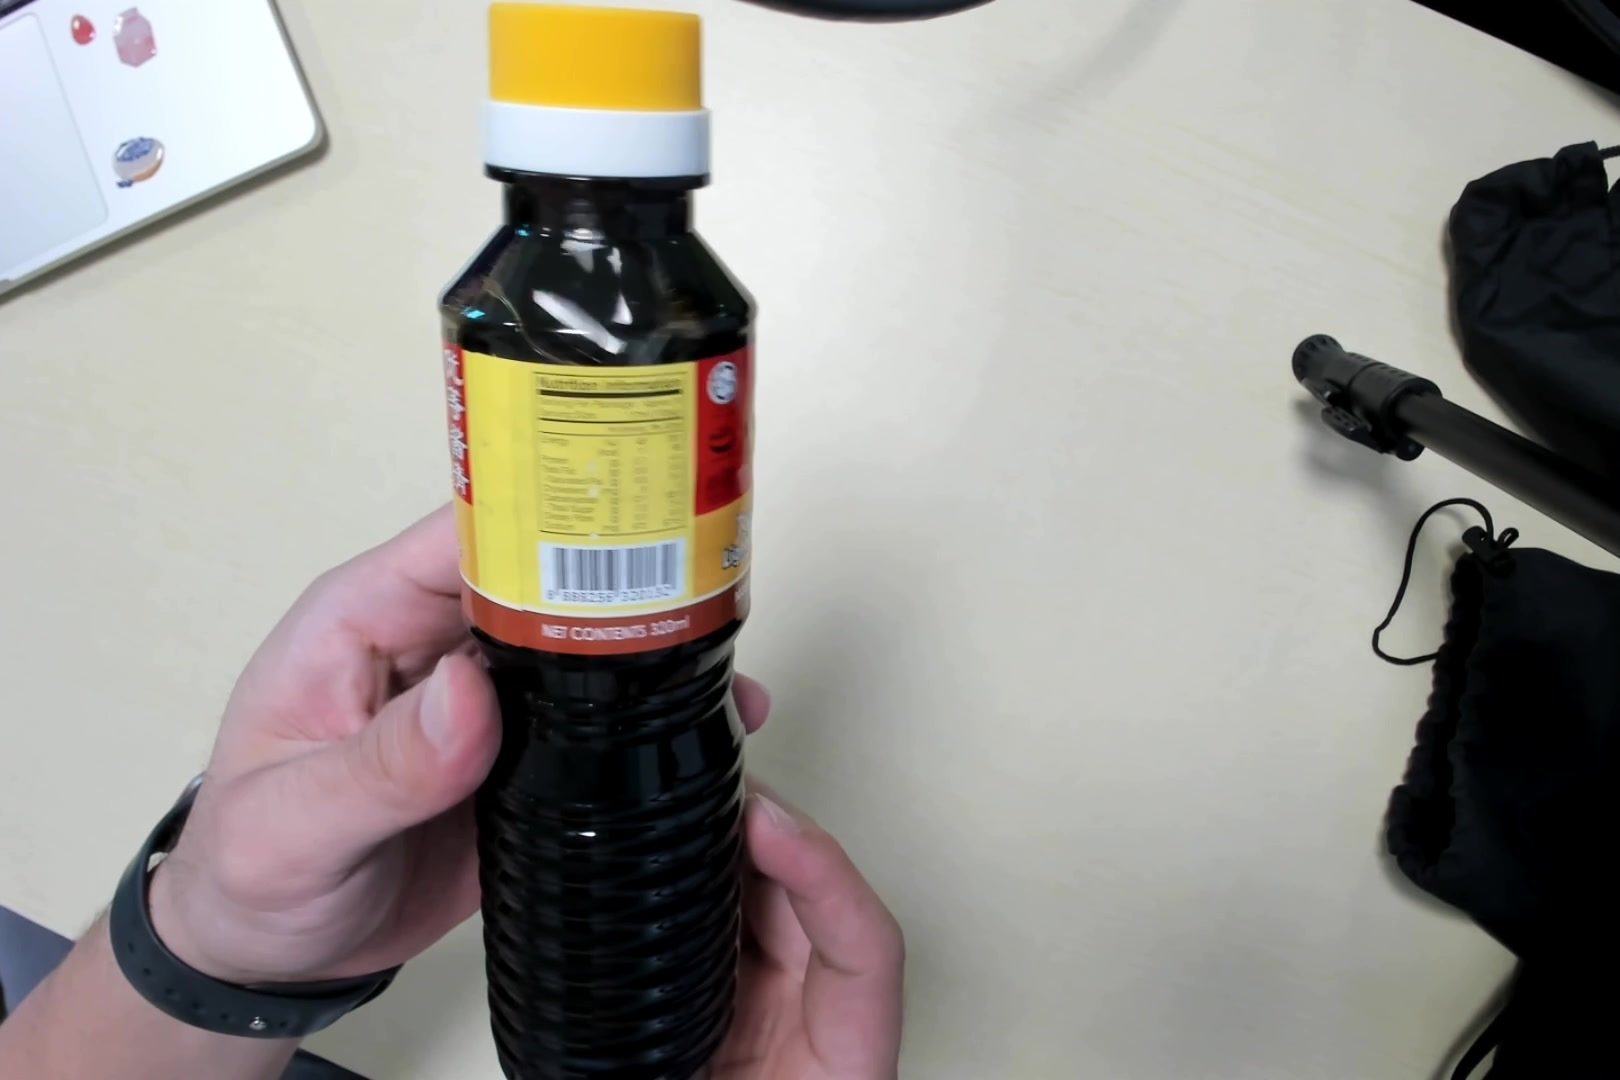LightSoySauce_300-399g_Halal_NonHealthy: (430, 7, 755, 1080)
